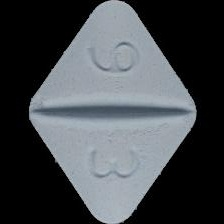54868-5955: (0, 0, 224, 224)
